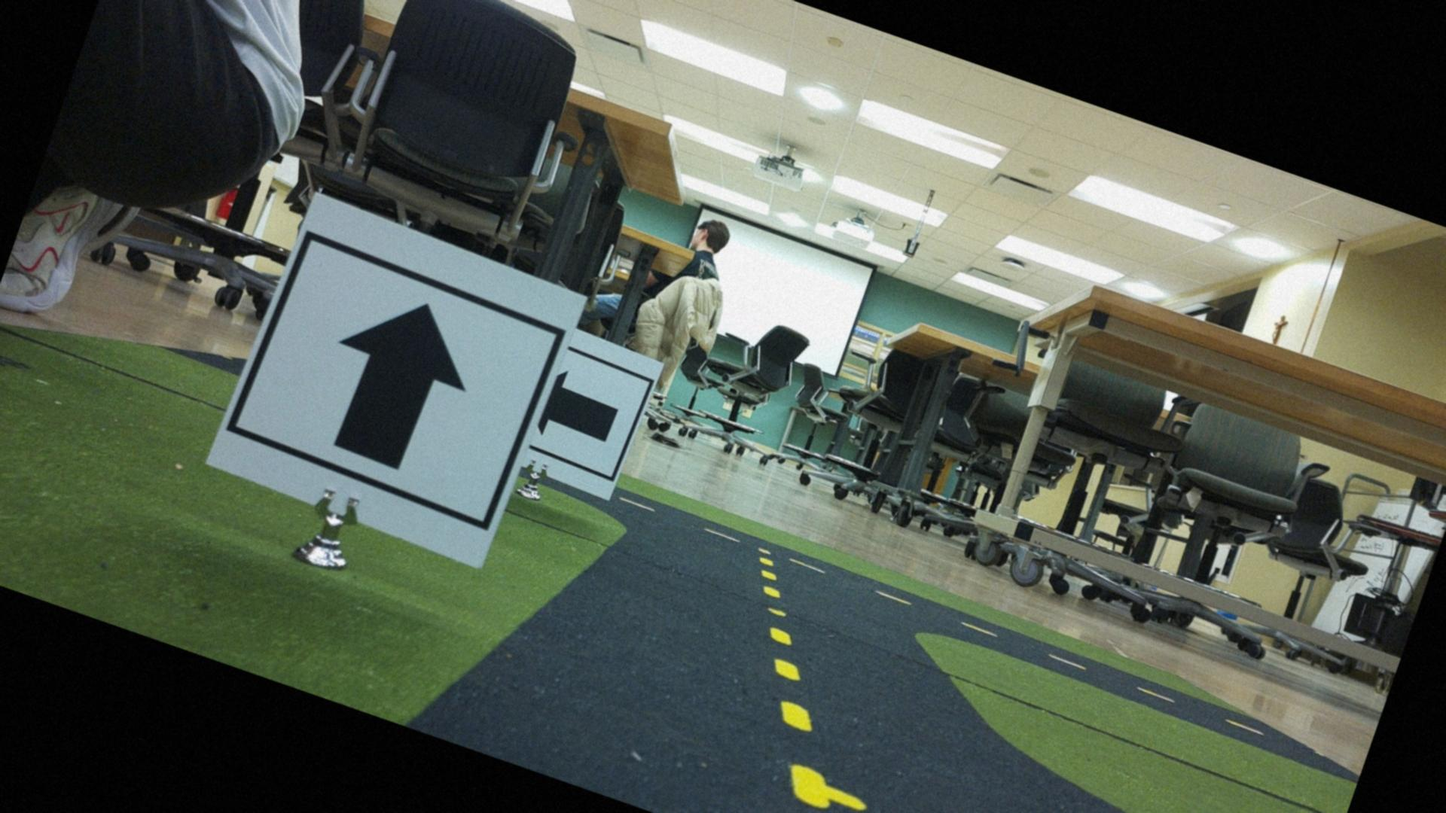gostraight: (217, 198, 583, 575)
yellowline: (688, 547, 896, 811)
